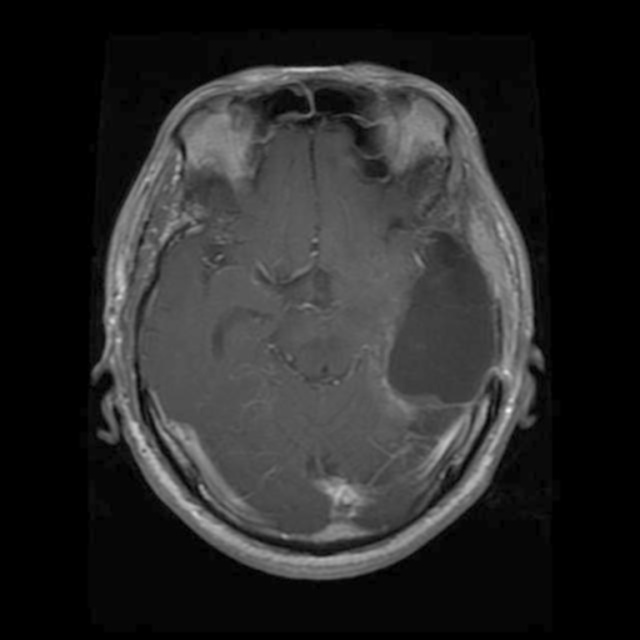pituitary tumor: (406, 230, 496, 402)
